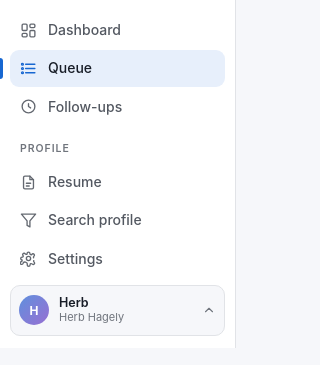
Scenario: Sidebar profile menu › lists every profile as a switch back to this page, with the active one disabled
Click the button "H Herb Herb Hagely". click: (118, 310)
box: [10,285,225,336]
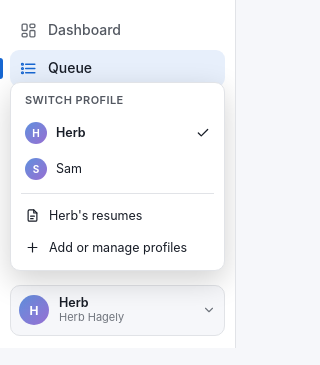
Expected: the menu item "H Herb" is disabled, [17,115,218,151]
Expected: the menu item "S Sam" is enabled, [17,151,218,187]
Expected: the form named "redirect_to" holds "/jobs/3?tab=x", [17,115,218,187]
